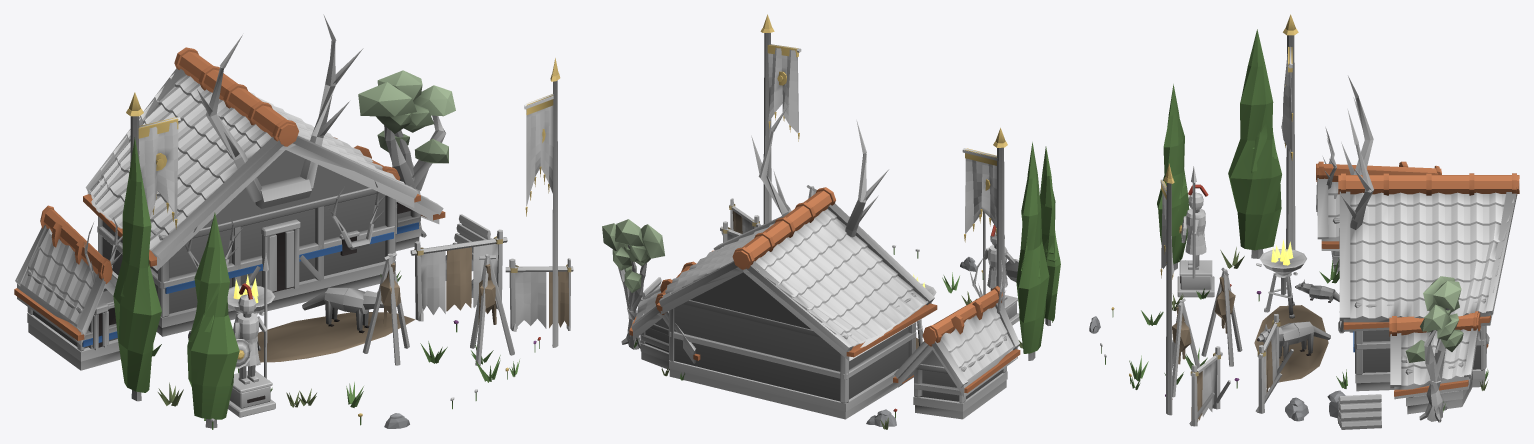
File: hunters-lodge-l3.glb
3 renders of one model, left to right at view 1: azimuth 30°, elevation 25°; view 2: azimuth 150°, elevation 25°; view 3: azimuth 270°, elevation 25°, orthographic. The views are drawn at different scales.
Visible parts, largest first — view 1: hunters-lodge-l3; view 2: hunters-lodge-l3; view 3: hunters-lodge-l3.
Part boxes in pixels (bbox=[...]): hunters-lodge-l3: bbox=[14, 14, 573, 429]; hunters-lodge-l3: bbox=[602, 14, 1060, 429]; hunters-lodge-l3: bbox=[1089, 14, 1519, 429].
Size of the model in its own units: 1.61 by 1.03 by 1.57.
